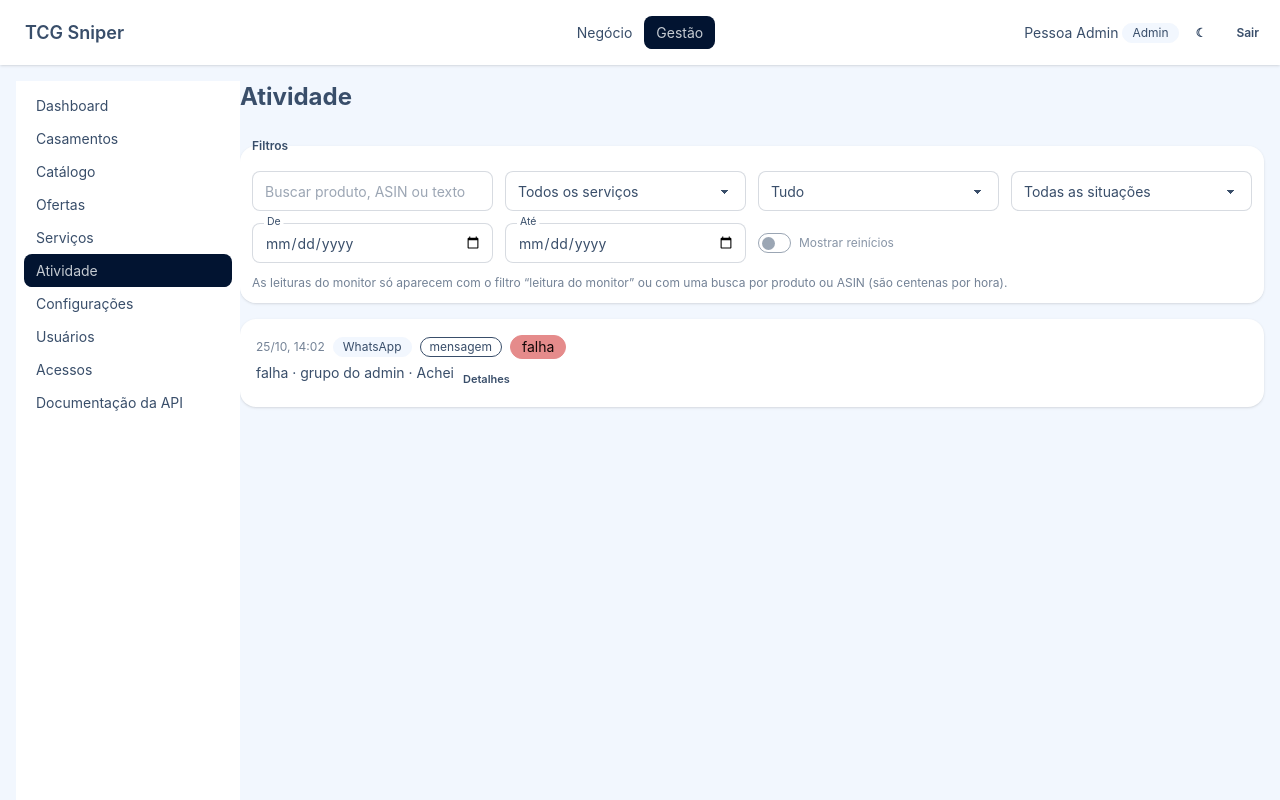
Atividade › sem texto (sem ver_mensagens) mostra 'texto oculto'
Click the button "Detalhes": (486, 379) top-left (454, 367), bottom-right (519, 391)
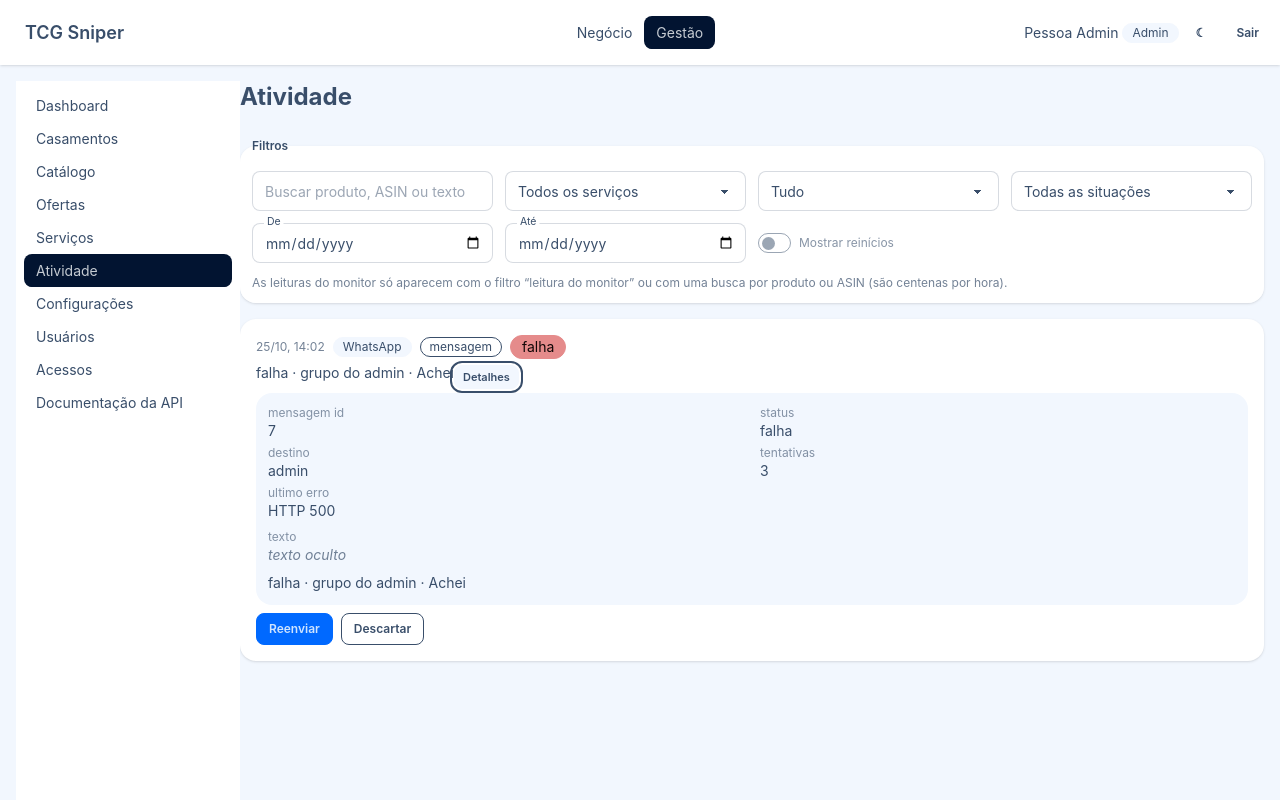
Now the text "texto oculto" is shown, box top-left (268, 546), bottom-right (346, 563)
